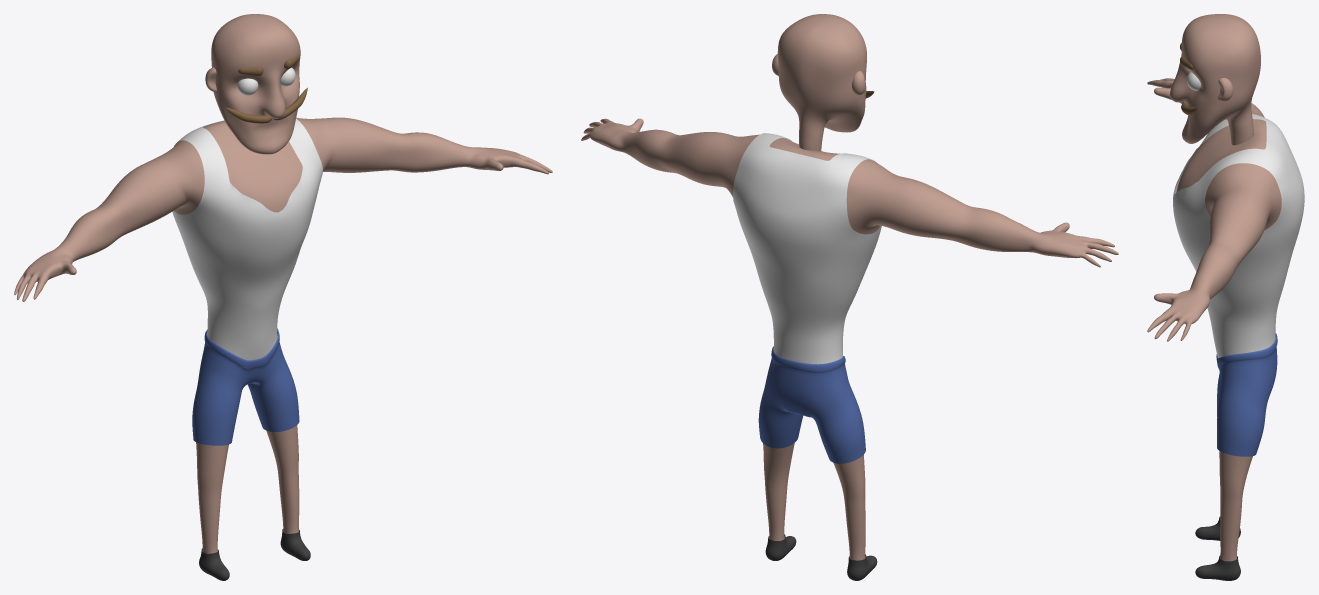
File: Maromba.fbx
3 views of the same model, side by side, from view 1: azimuth 30°, elevation 25°; view 2: azimuth 150°, elevation 25°; view 3: azimuth 270°, elevation 25° (orthographic).
Parts seen in each view (by area): view 1: polySurface12; view 2: polySurface12; view 3: polySurface12.
Boxes of the visible parts, x1,y1,x2,y2 form: polySurface12: [14, 14, 552, 580]; polySurface12: [581, 14, 1118, 580]; polySurface12: [1147, 14, 1304, 580].
Size of the model in its own units: 55.5 by 54.64 by 14.41.
